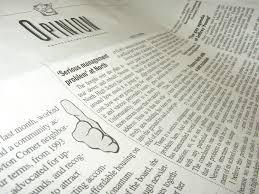Printing industry: (2, 3, 259, 194)
